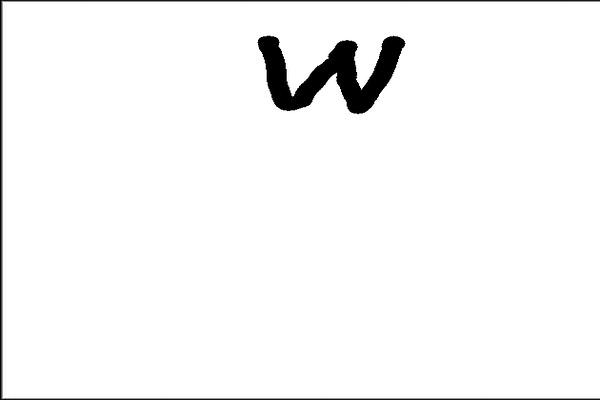w: (245, 15, 425, 132)
